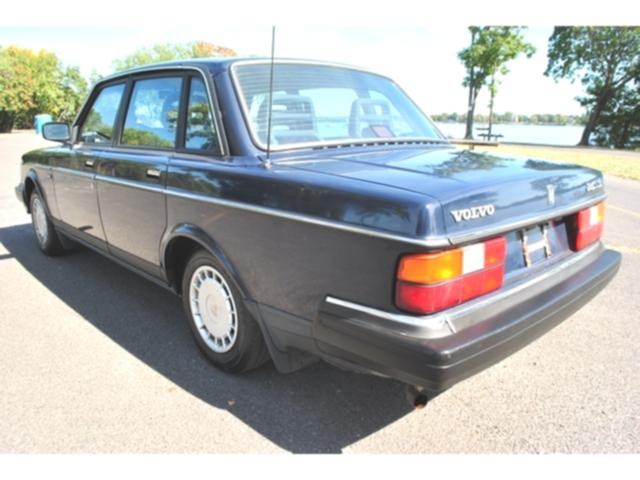volvo: (428, 194, 505, 235)
